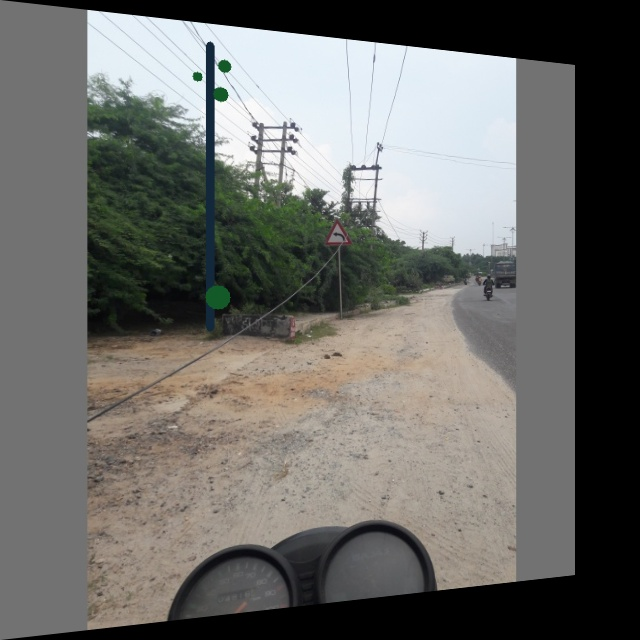Left_Hand_Curve: (324, 219, 352, 248)
